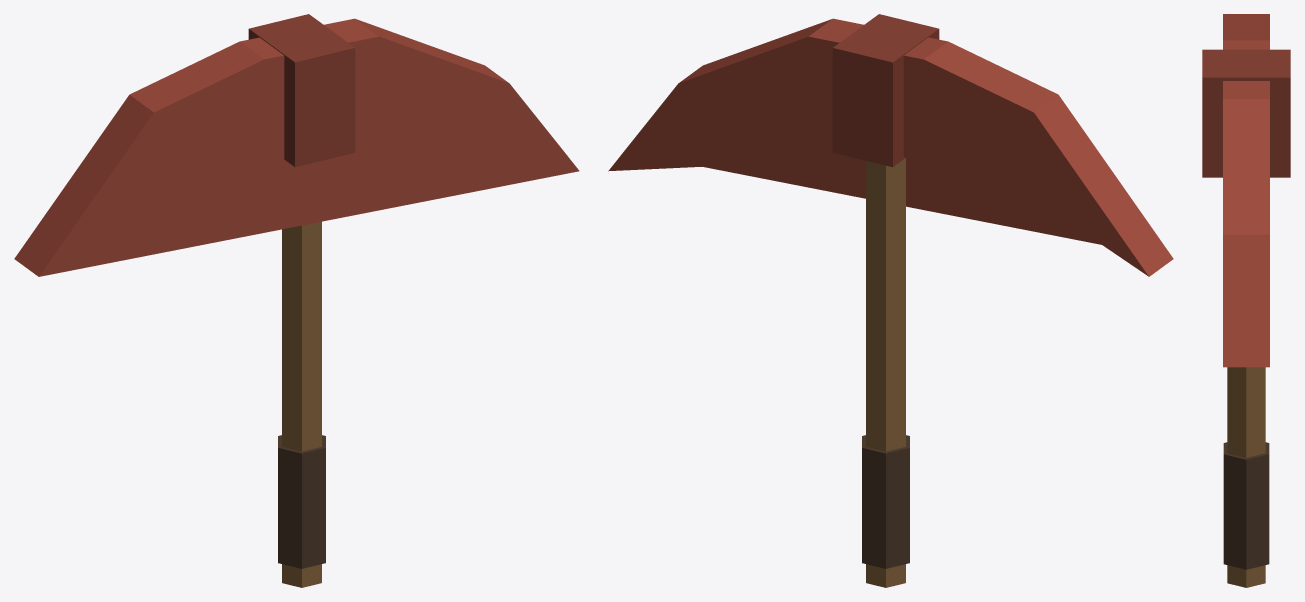
Rendered from dragonslayerPickaxe.glb.
3 renders of one model, left to right at view 1: azimuth 30°, elevation 25°; view 2: azimuth 150°, elevation 25°; view 3: azimuth 270°, elevation 25°, orthographic. The views are drawn at different scales.
Visible parts, largest first — view 1: dragonslayerPickaxe; view 2: dragonslayerPickaxe; view 3: dragonslayerPickaxe.
Part boxes in pixels (box(x1,y1,x2,y2)): dragonslayerPickaxe: box(14, 14, 579, 587); dragonslayerPickaxe: box(608, 14, 1173, 587); dragonslayerPickaxe: box(1202, 14, 1290, 587).
Bounding box in the file's own units: 1 × 0.9537 × 0.1481.
